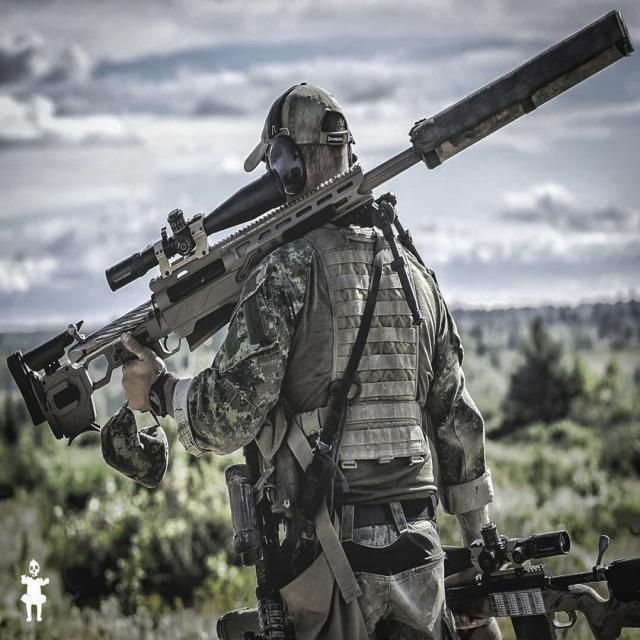rifle: (6, 6, 640, 450), (403, 514, 640, 640)
